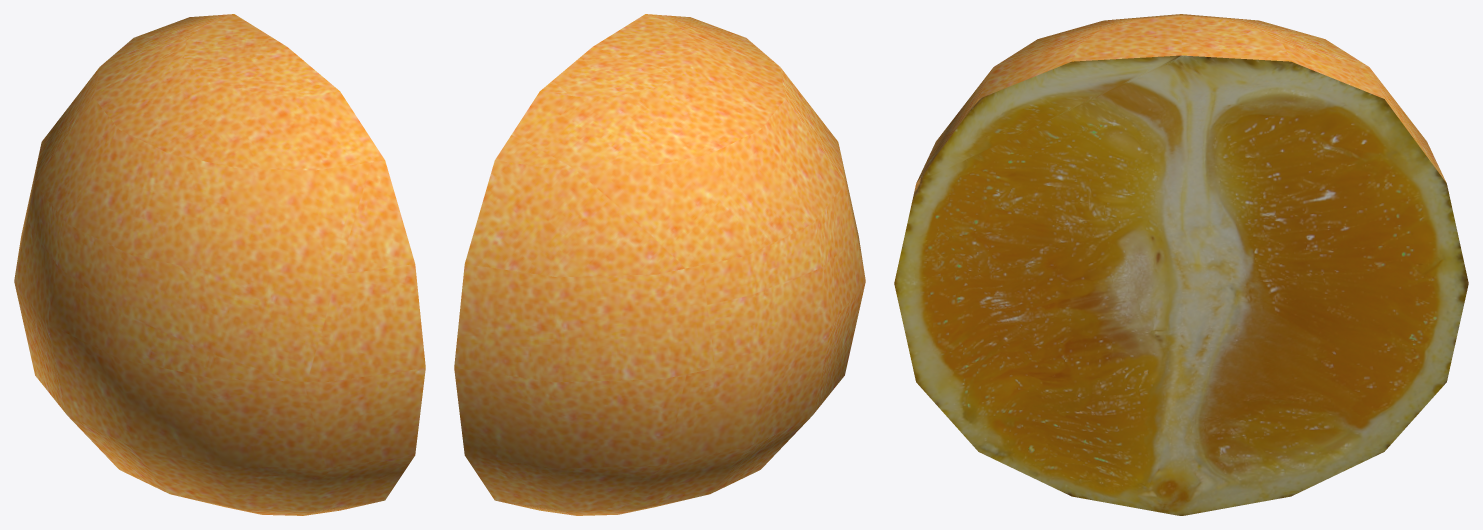
The model's file is Orange-half.FBX.
3 views of the same model, side by side, from view 1: azimuth 30°, elevation 25°; view 2: azimuth 150°, elevation 25°; view 3: azimuth 270°, elevation 25° (orthographic). The views are drawn at different scales.
Parts seen in each view (by area): view 1: Sphere002; view 2: Sphere002; view 3: Sphere002.
Part boxes in pixels (x1,y1,x2,y2): Sphere002: (14, 14, 425, 515); Sphere002: (454, 14, 865, 515); Sphere002: (894, 14, 1468, 515).
Bounding box in the file's own units: 22.91 × 46.11 × 40.76.
